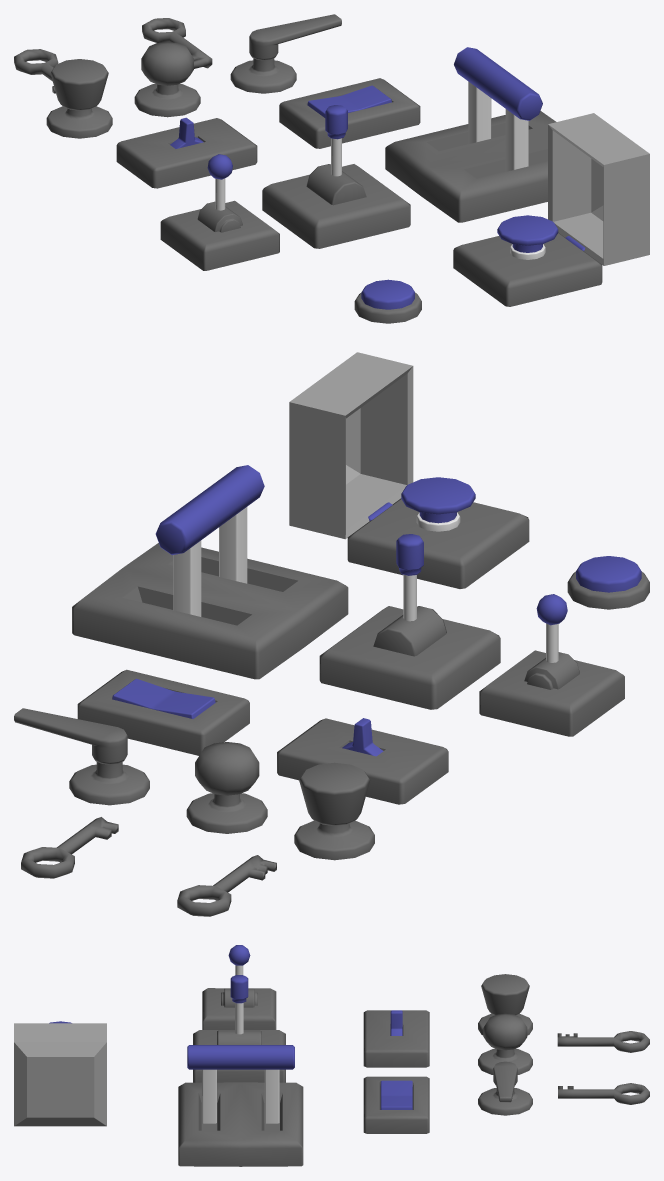
File: GroKit_Interactables_Pack01.fbx
3 renders of one model, top to bottom at view 1: azimuth 30°, elevation 25°; view 2: azimuth 150°, elevation 25°; view 3: azimuth 270°, elevation 25°, orthographic. The views are drawn at different scales.
Parts seen in each view (by area): view 1: Button_Cover, Lever_1_Base, Button_2_Base, Lever_2_Base, Switch_2_Base, Lever_1_Handle, Lever_3_Base, Switch_1_Base, Lever_2_Handle, DoorKnob_1_Knob, DoorKnob_3_Knob1, DoorKnob_2_Knob (+11 smaller); view 2: Lever_1_Base, Button_Cover, Lever_2_Base, Button_2_Base, Lever_1_Handle, Switch_2_Base, Lever_3_Base, Switch_1_Base, Lever_2_Handle, DoorKnob_1_Knob, DoorKnob_2_Knob, DoorKnob_3_Knob1 (+11 smaller); view 3: Button_Cover, Lever_1_Base, Lever_1_Handle, Switch_2_Base, Switch_1_Base, Lever_3_Base, Lever_2_Base, DoorKnob_1_Knob, Lever_2_Handle, DoorKnob_2_Knob, Key_1, Key_2 (+6 smaller).
Boxes of the visible parts, bbox=[...] form: Button_Cover: bbox=[548, 113, 649, 265]; Lever_1_Base: bbox=[385, 111, 556, 222]; Button_2_Base: bbox=[453, 233, 602, 306]; Lever_2_Base: bbox=[262, 164, 410, 248]; Switch_2_Base: bbox=[116, 118, 257, 188]; Lever_1_Handle: bbox=[454, 47, 542, 171]; Lever_3_Base: bbox=[160, 200, 279, 270]; Switch_1_Base: bbox=[279, 78, 420, 148]; Lever_2_Handle: bbox=[306, 105, 366, 205]; DoorKnob_1_Knob: bbox=[50, 59, 108, 110]; DoorKnob_3_Knob1: bbox=[249, 14, 341, 60]; DoorKnob_2_Knob: bbox=[141, 42, 193, 85]; Lever_1_Base: bbox=[72, 543, 348, 679]; Button_Cover: bbox=[289, 352, 413, 539]; Lever_2_Base: bbox=[319, 606, 500, 709]; Button_2_Base: bbox=[347, 498, 529, 588]; Lever_1_Handle: bbox=[155, 465, 264, 616]; Switch_2_Base: bbox=[277, 718, 448, 804]; Lever_3_Base: bbox=[479, 650, 624, 736]; Switch_1_Base: bbox=[77, 669, 249, 755]; Lever_2_Handle: bbox=[373, 534, 446, 656]; DoorKnob_1_Knob: bbox=[299, 762, 370, 825]; DoorKnob_2_Knob: bbox=[195, 742, 259, 795]; DoorKnob_3_Knob1: bbox=[14, 708, 127, 764]; Button_Cover: bbox=[14, 1023, 106, 1126]; Lever_1_Base: bbox=[178, 1082, 303, 1166]; Lever_1_Handle: bbox=[187, 1045, 294, 1123]; Switch_2_Base: bbox=[363, 1010, 429, 1067]; Switch_1_Base: bbox=[363, 1076, 429, 1133]; Lever_3_Base: bbox=[202, 988, 276, 1029]; Lever_2_Base: bbox=[193, 1030, 285, 1082]; DoorKnob_1_Knob: bbox=[481, 974, 529, 1014]; Lever_2_Handle: bbox=[217, 975, 261, 1044]; DoorKnob_2_Knob: bbox=[483, 1013, 527, 1050]; Key_1: bbox=[557, 1031, 649, 1052]; Key_2: bbox=[558, 1083, 649, 1104].
Size of the model in its own units: 86.94 by 26.22 by 145.
